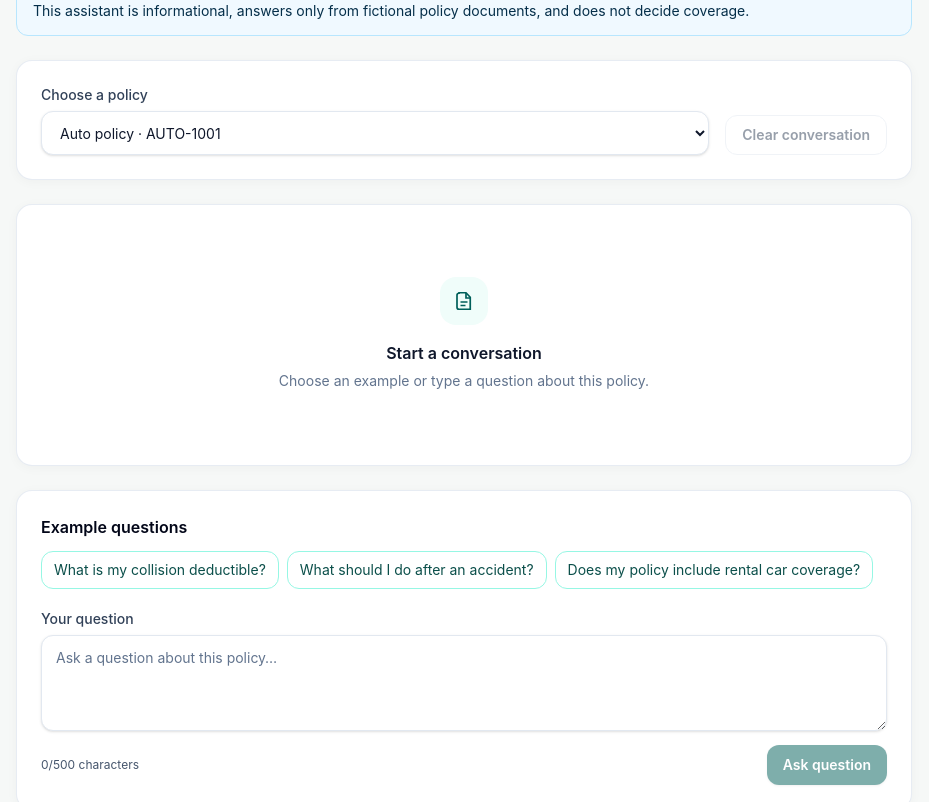
policy assistant › shows a friendly message when the assistant returns HTTP 429
(page scrolled)
Type "What does this policy cover?" into the text box labelled "Your question" at (464, 683), box x1=41 y1=635 x2=887 y2=731
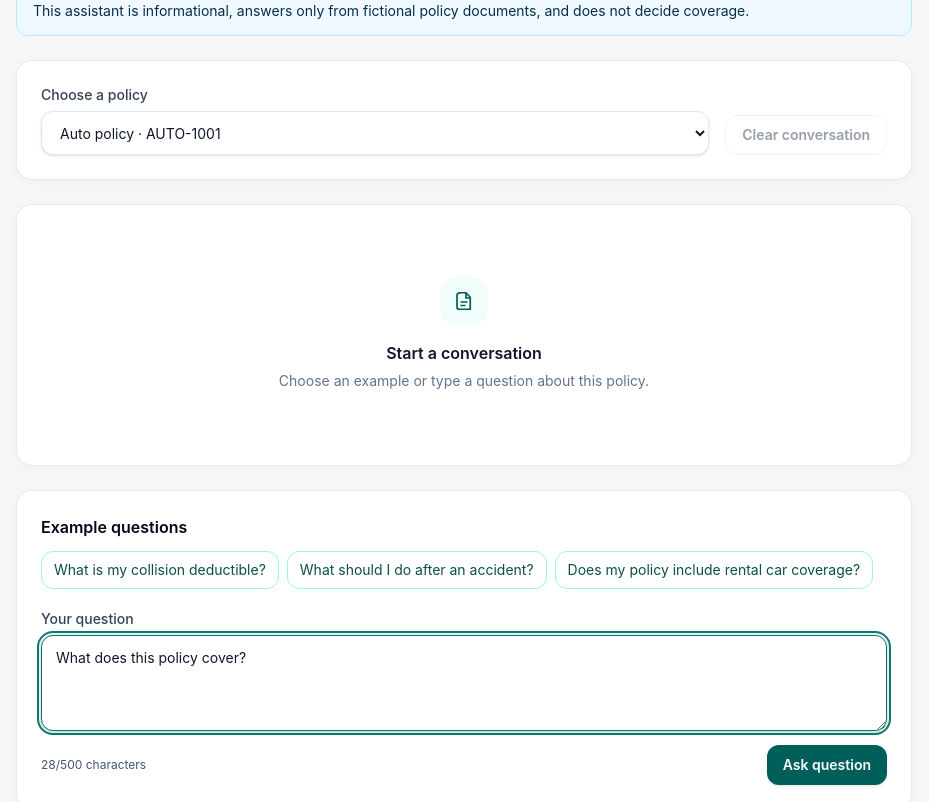
Click the button "Ask question" at (827, 765), box x1=767 y1=745 x2=887 y2=785
(page scrolled)
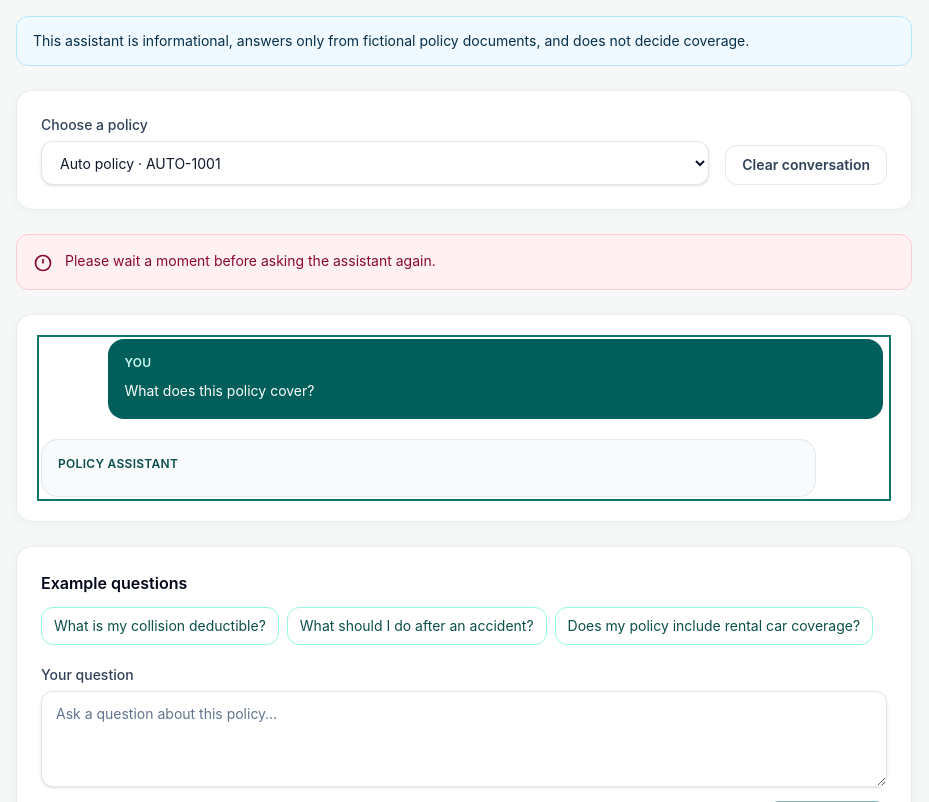
Expected: the message reads "Please wait a moment before asking the assistant again.", x1=65 y1=252 x2=436 y2=269
